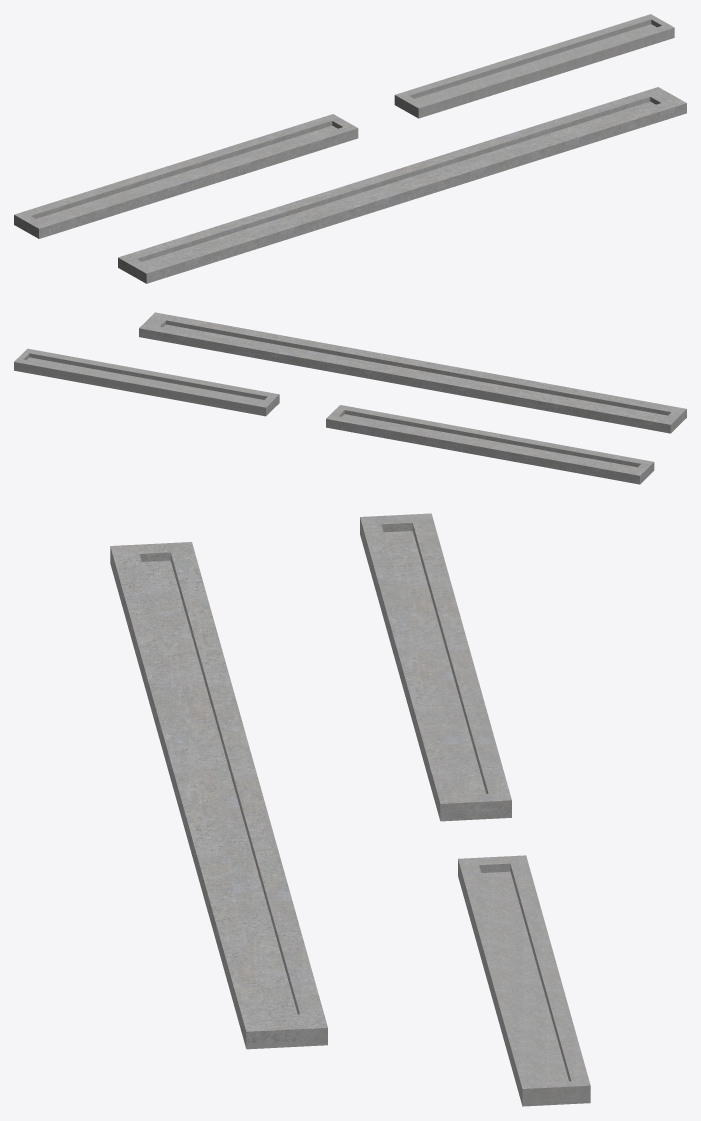
Rendered from JARDINERA_BLOQUE_5.fbx.
The picture shows the model from 3 angles, top to bottom: view 1: azimuth 30°, elevation 25°; view 2: azimuth 150°, elevation 25°; view 3: azimuth 270°, elevation 25°; orthographic projection. The views are drawn at different scales.
Visible parts, largest first — view 1: JARDINERA2, JARDINERA1, JARDINERA; view 2: JARDINERA2, JARDINERA1, JARDINERA; view 3: JARDINERA2, JARDINERA1, JARDINERA.
Boxes of the visible parts, x1,y1,x2,y2 form: JARDINERA2: (118, 87, 686, 283); JARDINERA1: (14, 114, 358, 238); JARDINERA: (394, 14, 674, 118); JARDINERA2: (139, 312, 686, 433); JARDINERA1: (326, 405, 654, 484); JARDINERA: (14, 348, 279, 416); JARDINERA2: (110, 542, 327, 1049); JARDINERA1: (360, 513, 511, 821); JARDINERA: (458, 855, 590, 1106).
Bounding box in the file's own units: 2.22 × 0.0315 × 0.7842.
1 material, 1 textured.
